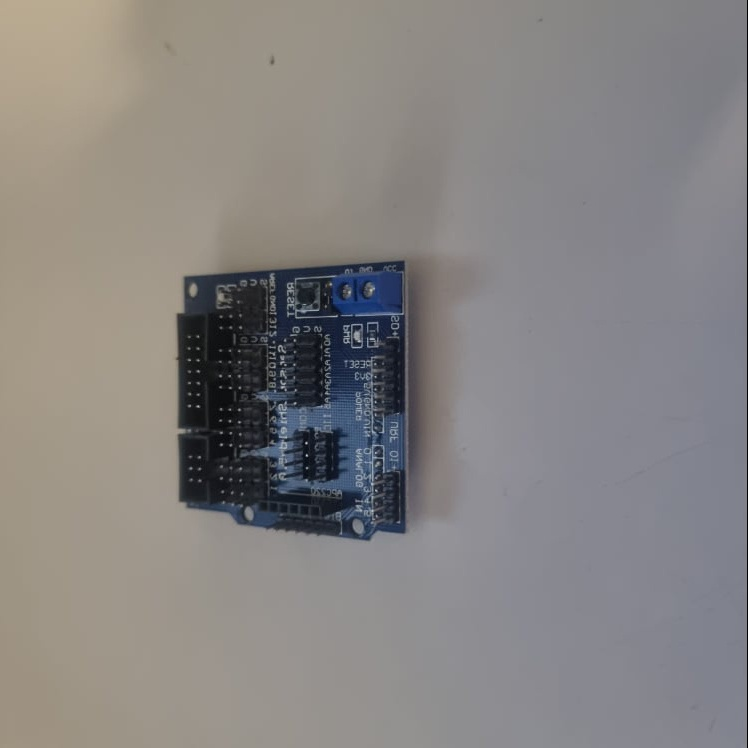5V EXPANSION: (171, 258, 414, 546)
